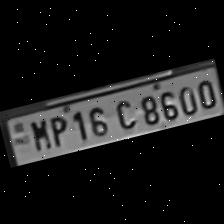0: (190, 74, 218, 110), (172, 80, 197, 116)
1: (64, 106, 90, 144)
6: (80, 100, 112, 138), (153, 83, 180, 122)
8: (132, 90, 162, 127)
C: (106, 94, 138, 132)
M: (24, 115, 52, 152)
P: (43, 110, 72, 148)
